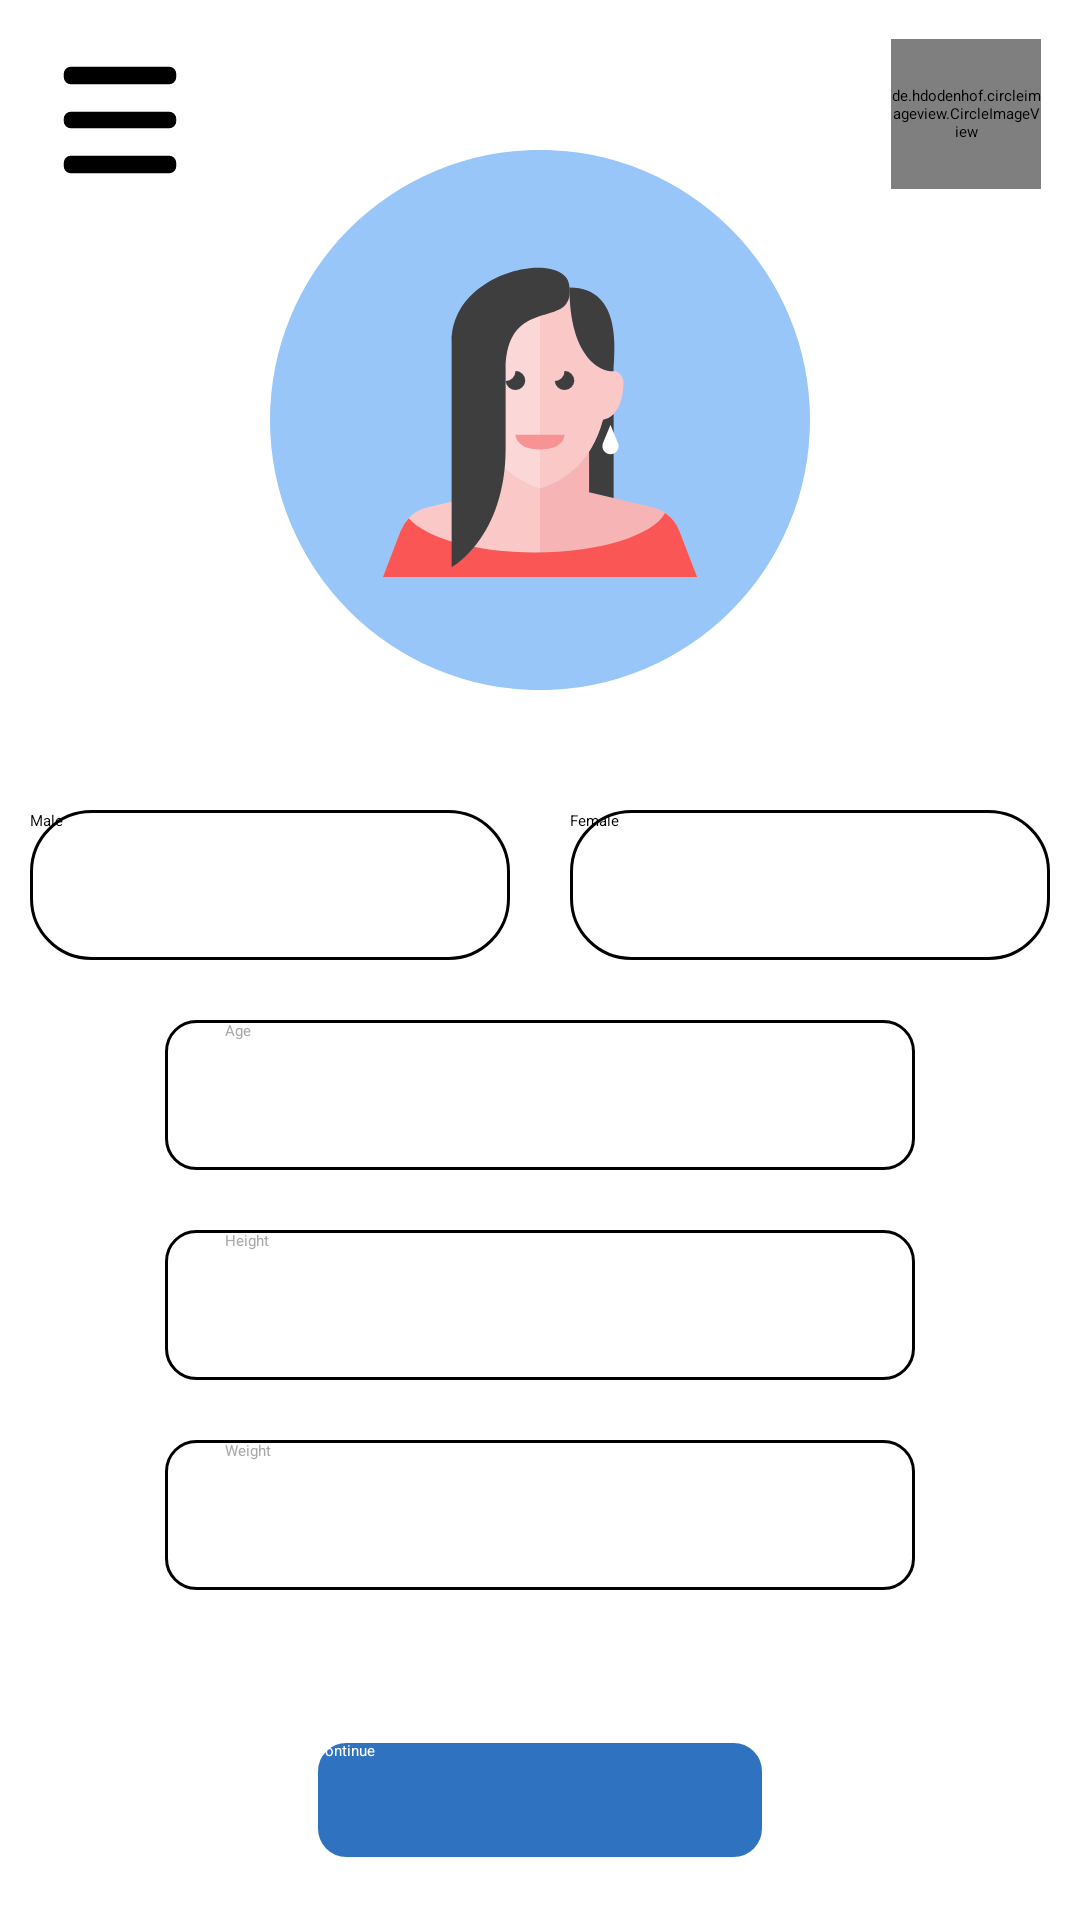

Named icons in this screenshot (1080x1920) and their centers, (x=x, y=y):
menu: (x=120, y=120)
